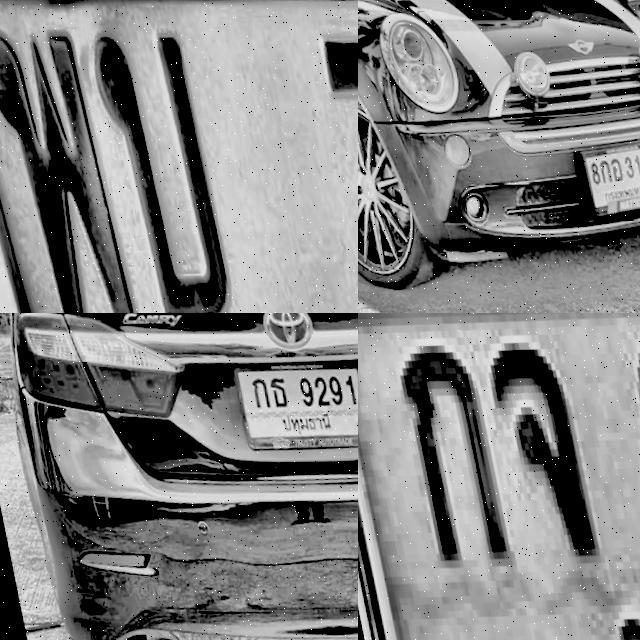license-plate: (0, 0, 358, 313), (358, 313, 640, 640), (222, 339, 358, 459), (563, 118, 640, 222)
